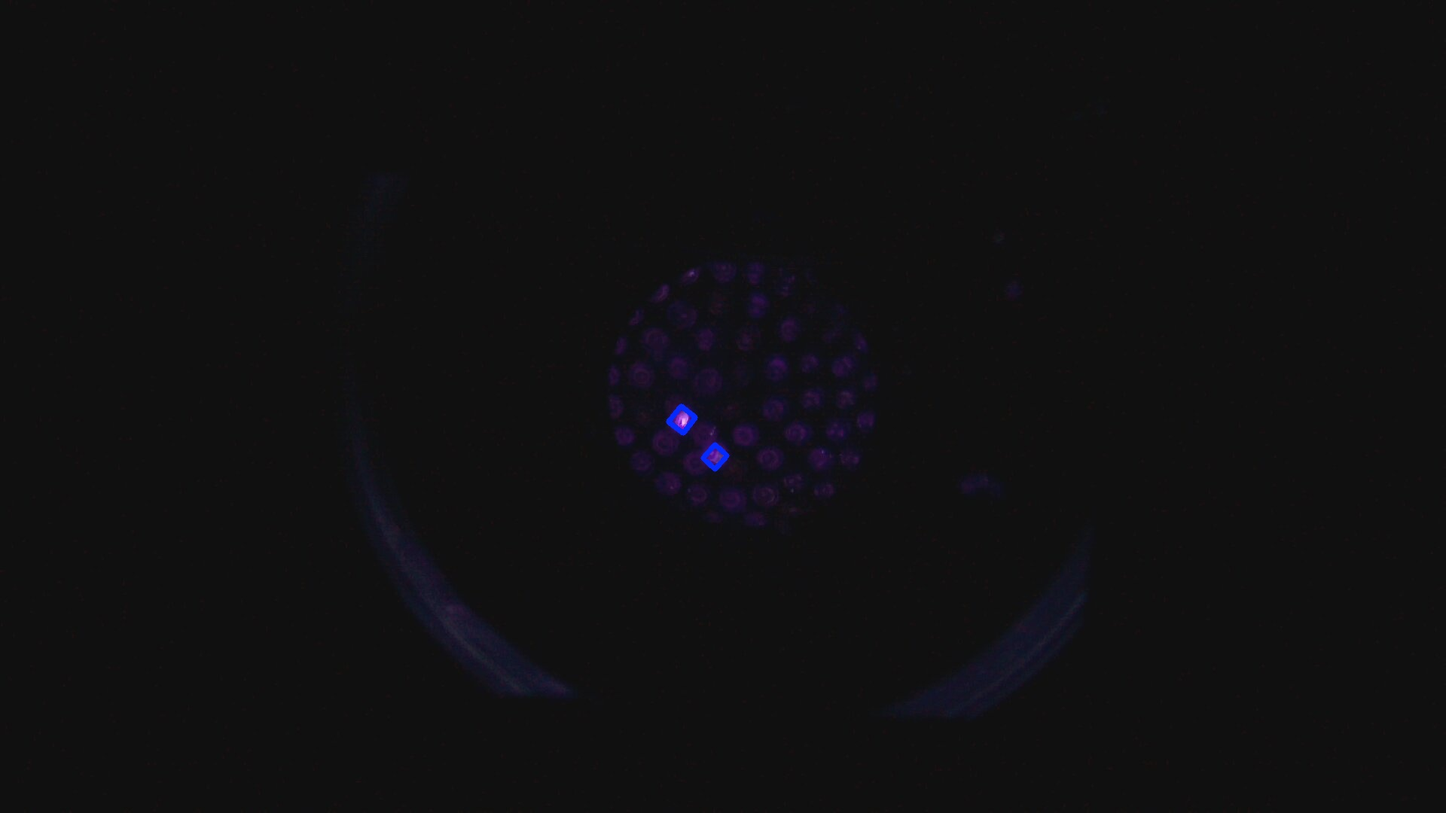plastic: (663, 401, 701, 439)
